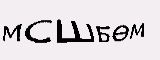Б: (95, 24, 111, 43)
М: (1, 23, 21, 43), (128, 21, 145, 41)
С: (24, 19, 53, 44)
Ш: (54, 18, 96, 44)
Ө: (111, 24, 129, 42)
